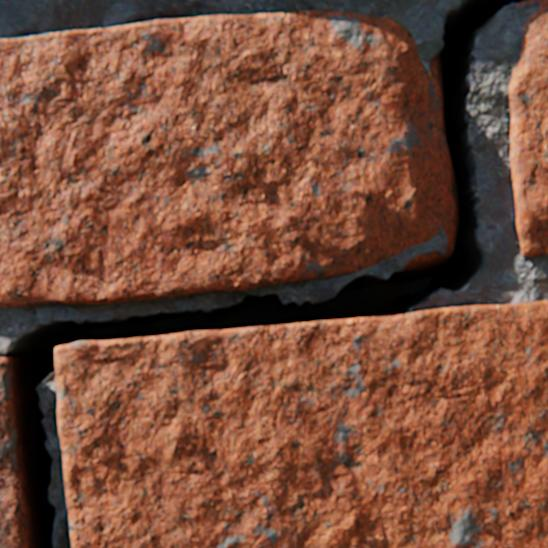brick: (0, 12, 444, 307), (56, 301, 547, 547), (508, 1, 547, 257), (0, 357, 29, 547)
crack: (1, 0, 547, 547)
